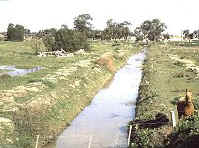horse: (176, 85, 199, 121)
sky: (1, 63, 42, 79)
tree: (48, 23, 87, 56), (131, 14, 166, 44), (101, 17, 135, 47), (72, 8, 94, 41), (6, 21, 28, 42)
water: (49, 48, 154, 146)
